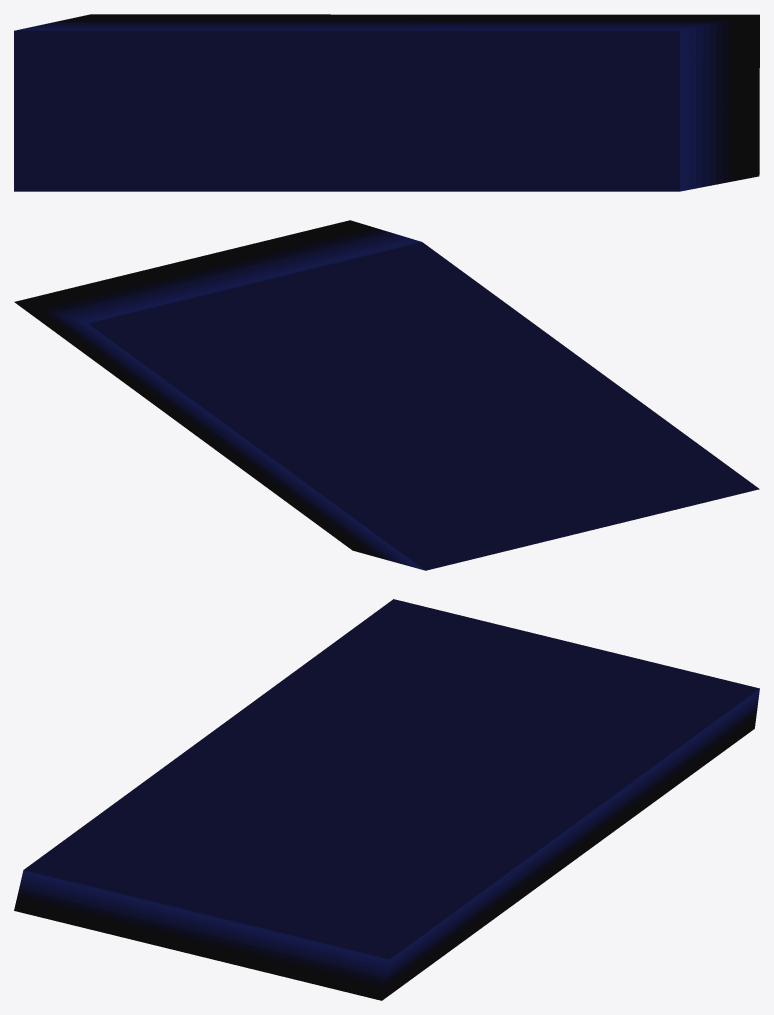
3 renders of one model, top to bottom at view 1: azimuth 30°, elevation 25°; view 2: azimuth 150°, elevation 25°; view 3: azimuth 270°, elevation 25°, orthographic. The views are drawn at different scales.
Parts seen in each view (by area): view 1: Joint_0_Object_0; view 2: Joint_0_Object_0; view 3: Joint_0_Object_0.
Boxes of the visible parts, <box> form: Joint_0_Object_0: <box>14,14,759,191</box>; Joint_0_Object_0: <box>14,220,759,570</box>; Joint_0_Object_0: <box>14,599,759,1000</box>.
Size of the model in its own units: 595 by 0 by 466.
Materials: 1 (1 with a texture image).
